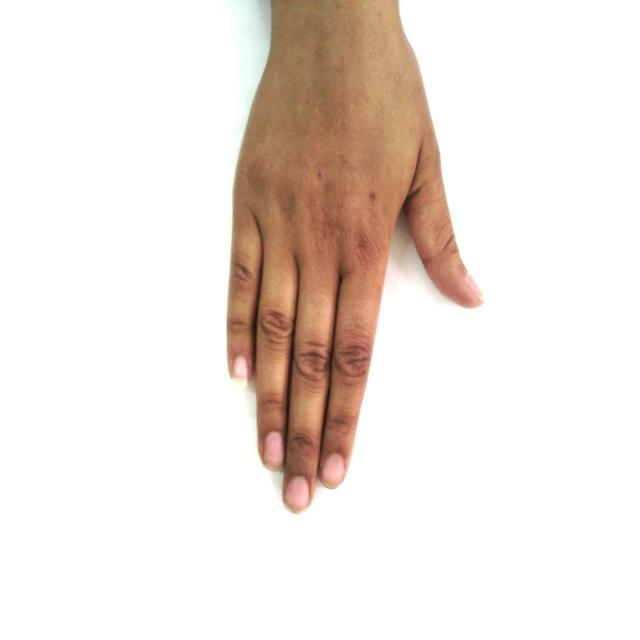Fingernail: (285, 476, 309, 511), (322, 454, 344, 486), (265, 432, 283, 467), (465, 276, 484, 300), (233, 356, 248, 380)
